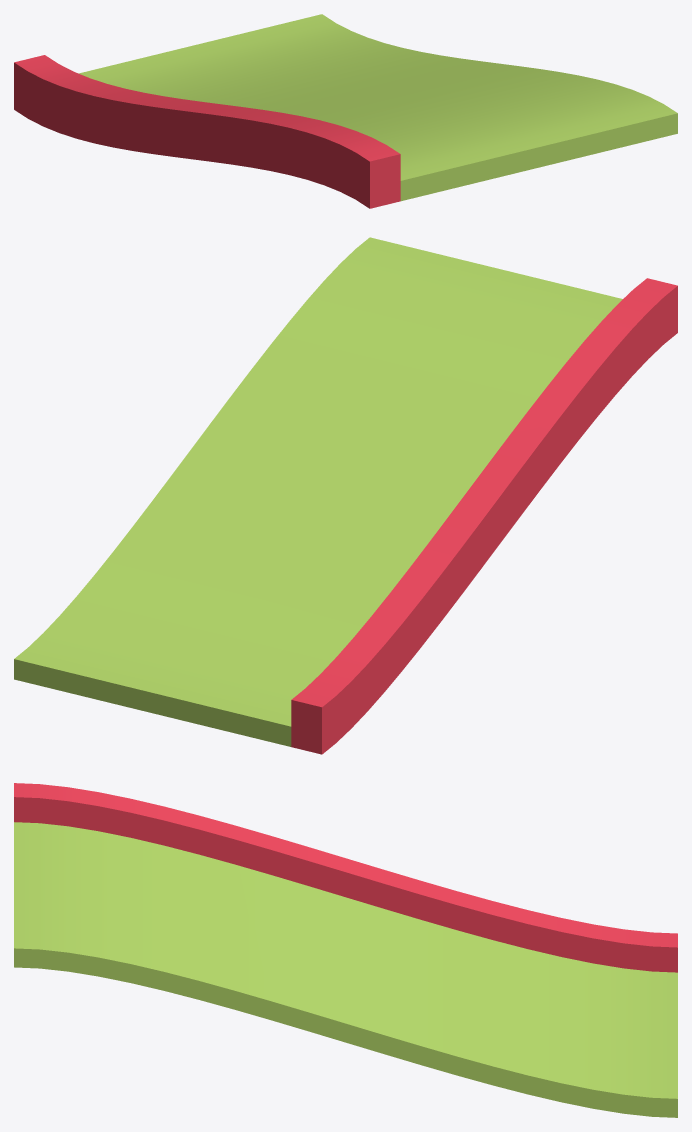
Rendered from rampLargeSide.dae.
3 renders of one model, top to bottom at view 1: azimuth 30°, elevation 25°; view 2: azimuth 150°, elevation 25°; view 3: azimuth 270°, elevation 25°, orthographic. The views are drawn at different scales.
Parts seen in each view (by area): view 1: rampLargeSide; view 2: rampLargeSide; view 3: rampLargeSide.
Part boxes in pixels (bbox=[...]): rampLargeSide: bbox=[14, 14, 677, 208]; rampLargeSide: bbox=[14, 237, 677, 754]; rampLargeSide: bbox=[14, 783, 677, 1117].
Size of the model in its own units: 0.9999 by 0.6467 by 2.
